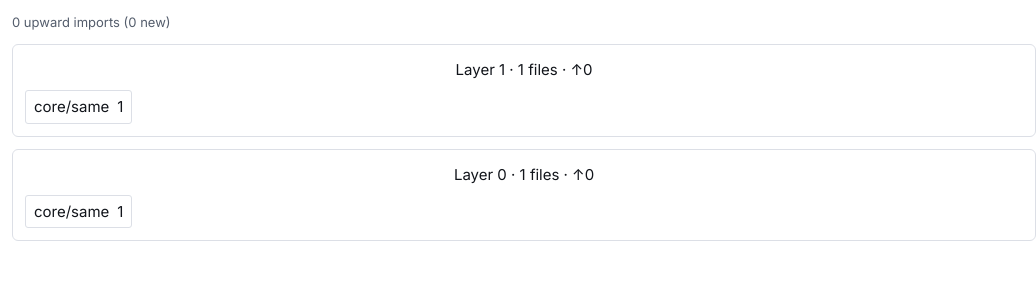
Test: AtlasLayers › a block in a lower band opens its own files when the folder repeats across layers
Click the 2nd button "core/same 1": (79, 212) [25, 195, 132, 228]
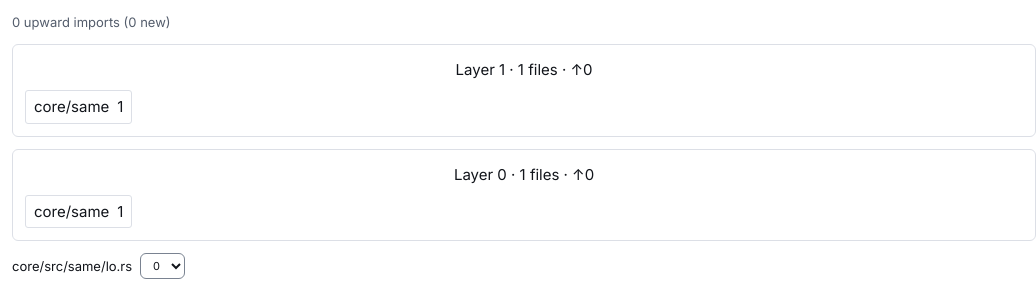
expect the dropdown named "Layer of core/src/same/lo.rs" is shown: met, box [140, 253, 185, 279]
